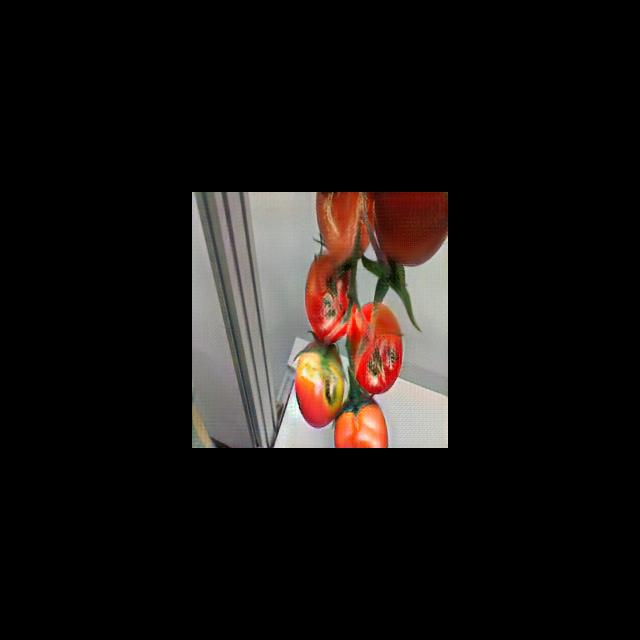tomato: (347, 303, 403, 396), (307, 257, 355, 342), (292, 346, 342, 423)
